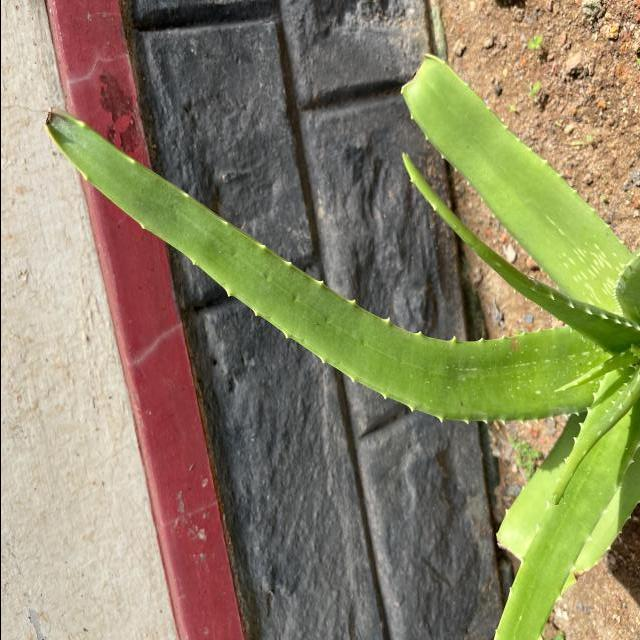Aloe vera: (43, 101, 601, 430)
